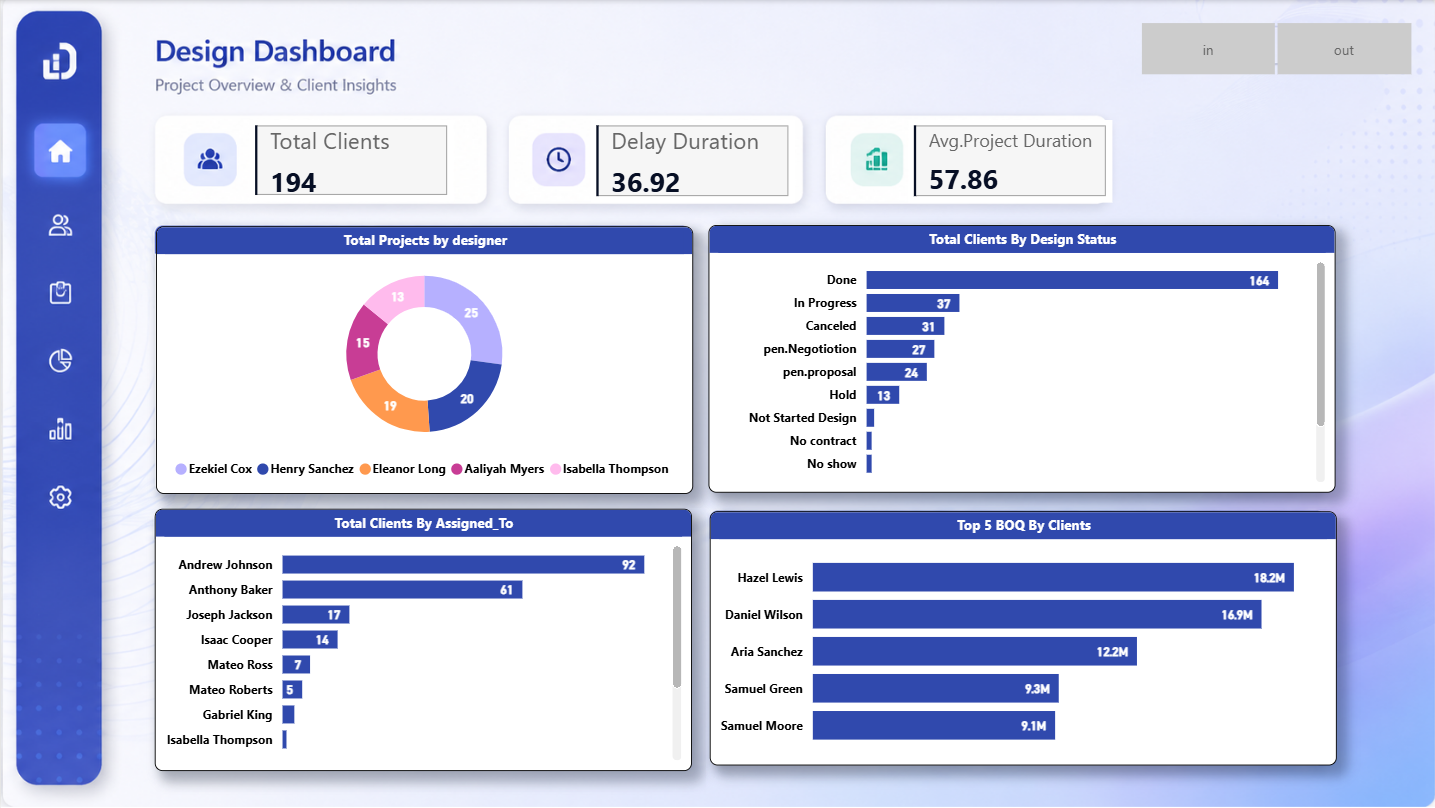

Layout of this report page (visuals, bound fields, positions):
{"tool":"powerbi","page":{"name":"Design","canvas":[1280,720],"ordinal":0},"visuals":[{"type":"donutChart","title":"Total Projects by designer","fields":{"Category":["SHCEMA.Assigned_Designer_Display"],"Y":["Count(SHCEMA.Client_Name)"]},"box":[138.3,201.7,478.3,238.3],"z":0},{"type":"barChart","title":"Total Clients By Design Status","fields":{"Category":["SHCEMA.Design Status"],"Y":["Count(SHCEMA.Client_Name)"]},"box":[630,200,558.3,238.3],"z":1000},{"type":"clusteredBarChart","title":"Total Clients By Assigned_To","fields":{"Category":["SHCEMA.Assigned_To_Display"],"Y":["Count(SHCEMA.Client_Name)"]},"box":[136.7,453.3,478.3,233.3],"z":2000},{"type":"cardVisual","fields":{"Data":["Count(SHCEMA.Client_Name)"]},"box":[221.4,107.1,181.4,72.9],"z":3000},{"type":"slicer","fields":{"Values":["SHCEMA.in/out"]},"box":[990,13.3,290,60],"z":4000},{"type":"barChart","title":"Top 5 BOQ By Clients","fields":{"Y":["Sum(SHCEMA.BOQ_Value)"],"Category":["SHCEMA.Client_Name_Display"]},"box":[631.7,455,558.3,226.7],"z":5000},{"type":"cardVisual","fields":{"Data":["Avg(SHCEMA.p/a)"]},"box":[525,106.7,181.7,73.3],"z":7000},{"type":"cardVisual","fields":{"Data":["Avg(SHCEMA.Diff)"]},"box":[808.3,106.7,181.7,73.3],"z":8000}]}

Visuals, with their boxes on the page's 1280x720 design canvas (x1, y1, x2, y2). These are canvas units, not pixel positions in the 1435x808 screenshot, which may show the page scaled, cropped or inside an application window:
"Total Projects by designer" donutChart: <region>138, 202, 617, 440</region>
"Total Clients By Design Status" barChart: <region>630, 200, 1188, 438</region>
"Total Clients By Assigned_To" clusteredBarChart: <region>137, 453, 615, 687</region>
cardVisual - Count(SHCEMA.Client_Name): <region>221, 107, 403, 180</region>
slicer - SHCEMA.in/out: <region>990, 13, 1280, 73</region>
"Top 5 BOQ By Clients" barChart: <region>632, 455, 1190, 682</region>
cardVisual - Avg(SHCEMA.p/a): <region>525, 107, 707, 180</region>
cardVisual - Avg(SHCEMA.Diff): <region>808, 107, 990, 180</region>
